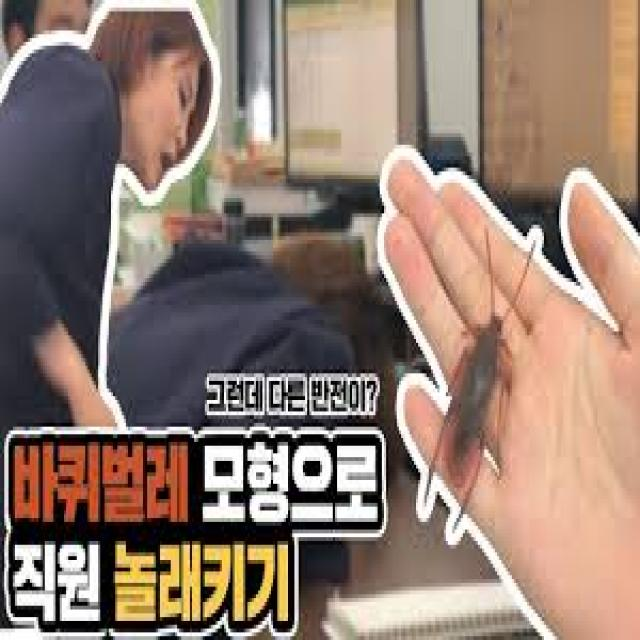Cockroach: (406, 210, 545, 564)
